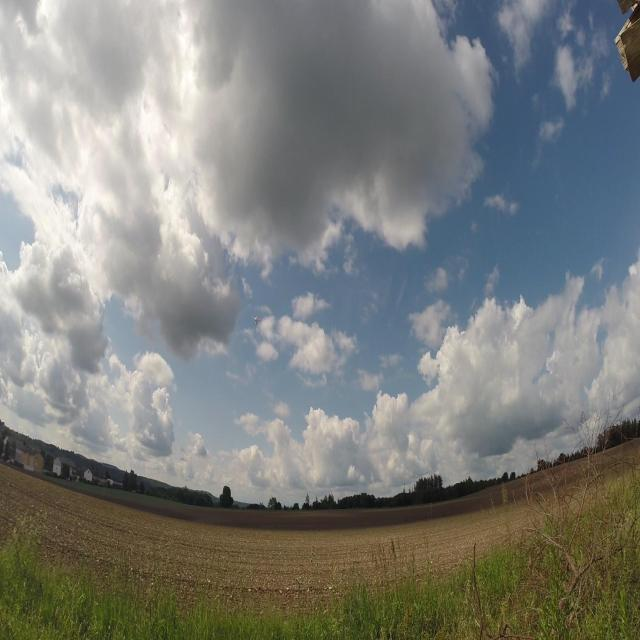drone: (250, 308, 262, 330)
